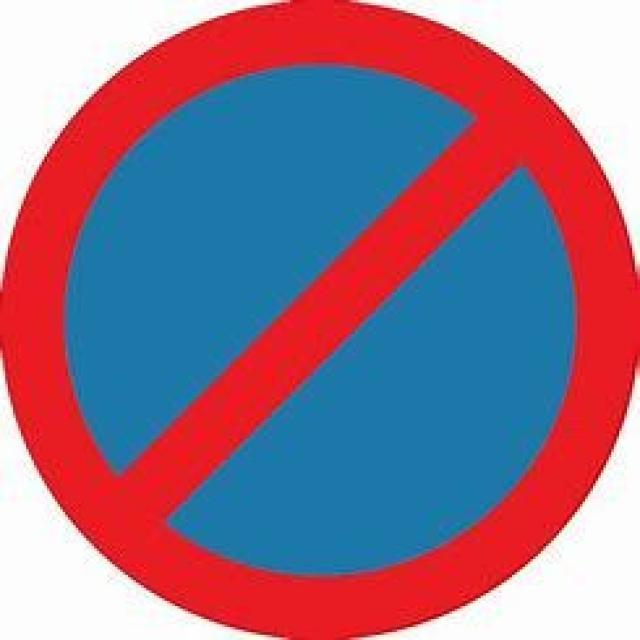no parking: (17, 13, 623, 623)
